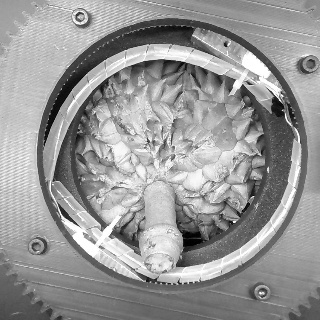base: (141, 176, 178, 211)
end: (143, 252, 175, 275)
